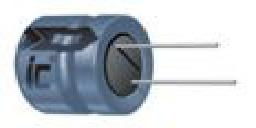Electrolytic Capacitor: (6, 13, 256, 113)
